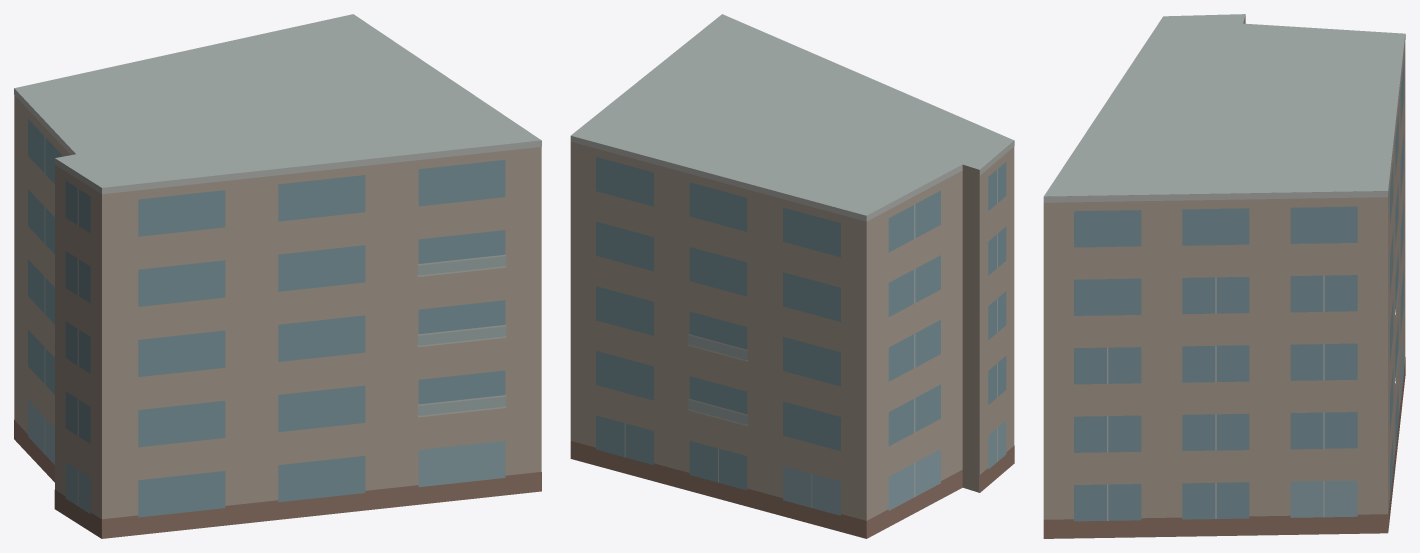
File: survey-upis-32496767.glb
3 views of the same model, side by side, from view 1: azimuth 30°, elevation 25°; view 2: azimuth 150°, elevation 25°; view 3: azimuth 270°, elevation 25° (orthographic). The views are drawn at different scales.
Parts seen in each view (by area): view 1: survey-upis-32496767.tmp; view 2: survey-upis-32496767.tmp; view 3: survey-upis-32496767.tmp.
Part boxes in pixels (<box>): survey-upis-32496767.tmp: <box>14,14,541,538</box>; survey-upis-32496767.tmp: <box>570,14,1014,538</box>; survey-upis-32496767.tmp: <box>1043,14,1405,538</box>.
Size of the model in its own units: 15.21 by 13.3 by 12.74.
